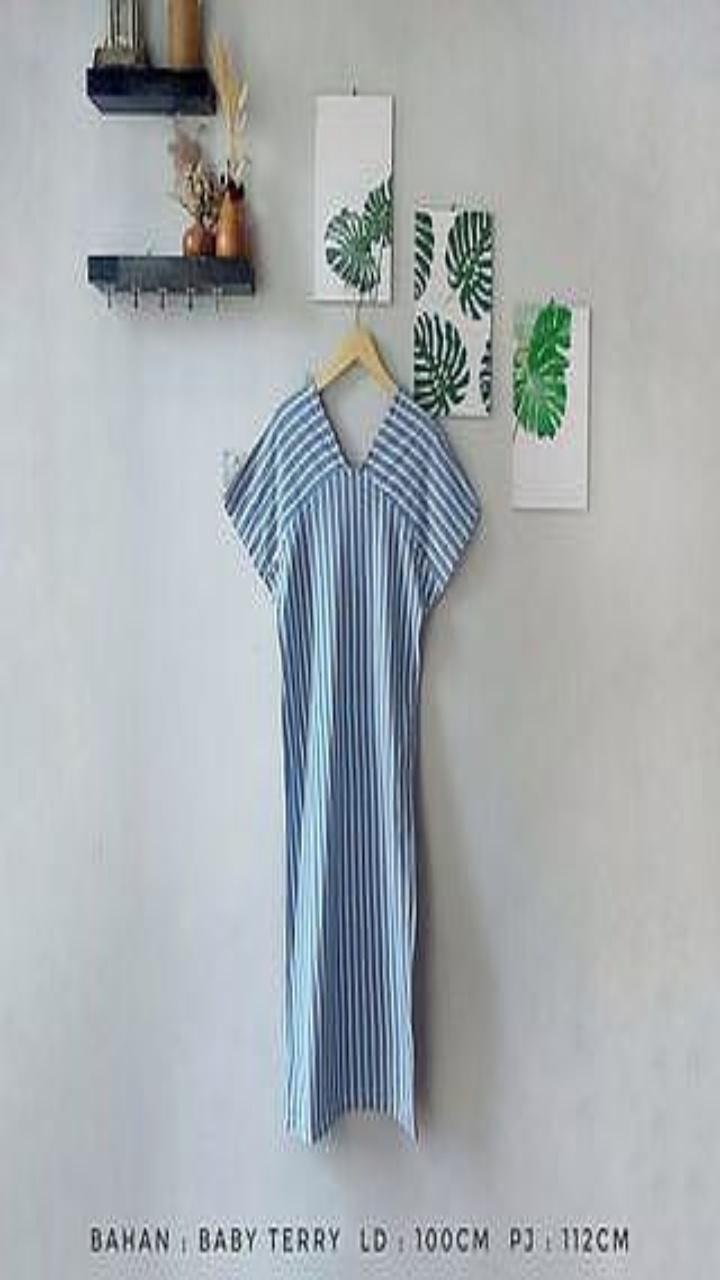T-Shirt: (223, 382, 479, 1142)
